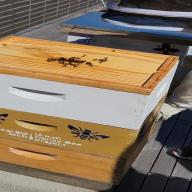Bee: (89, 58, 117, 66)
